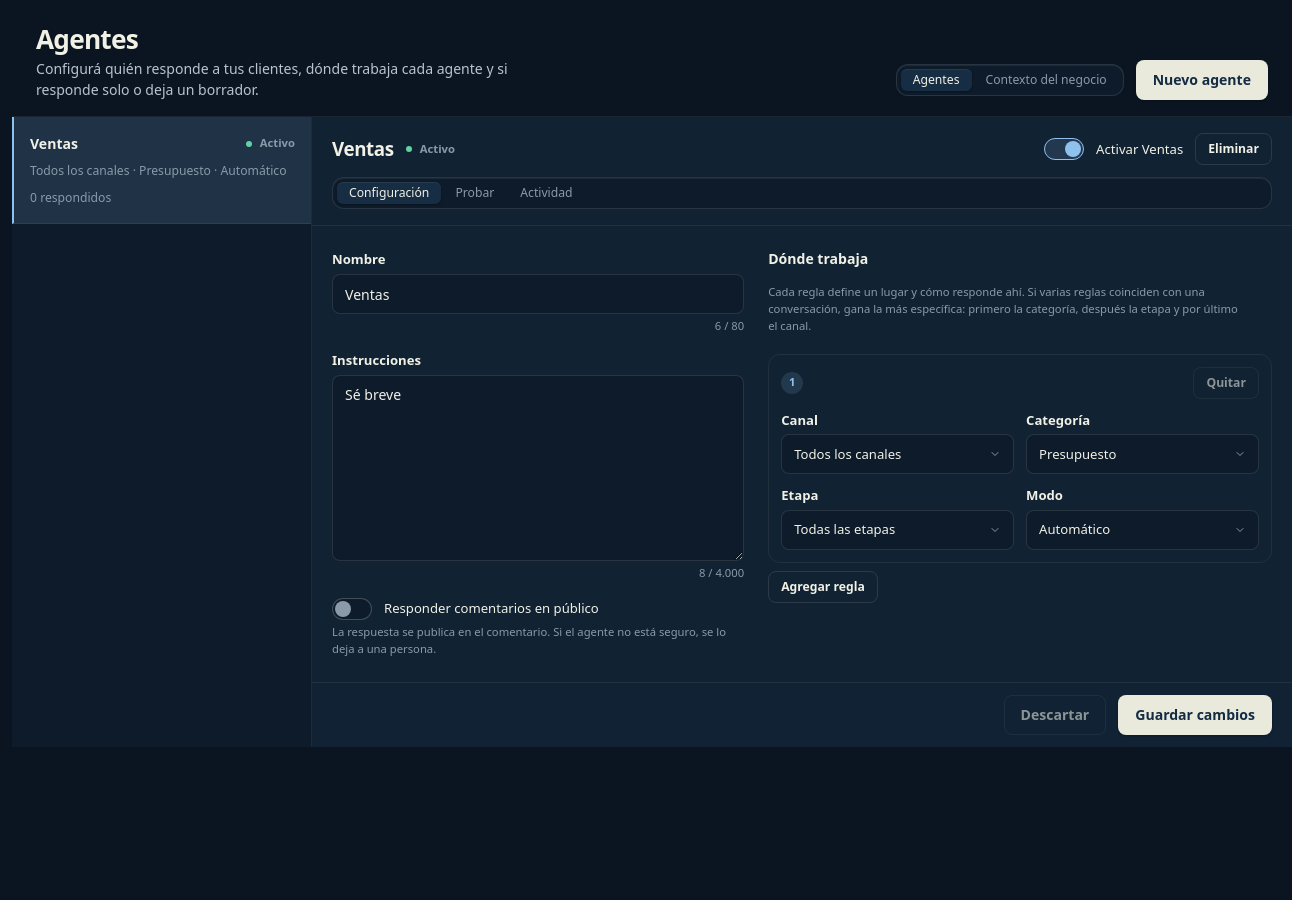
Test case: Agents › says when the agent has no activity in the period
This screenshot has width=1292, height=900.
Click the button "Ventas" at (162, 171), box [12,117,311,224]
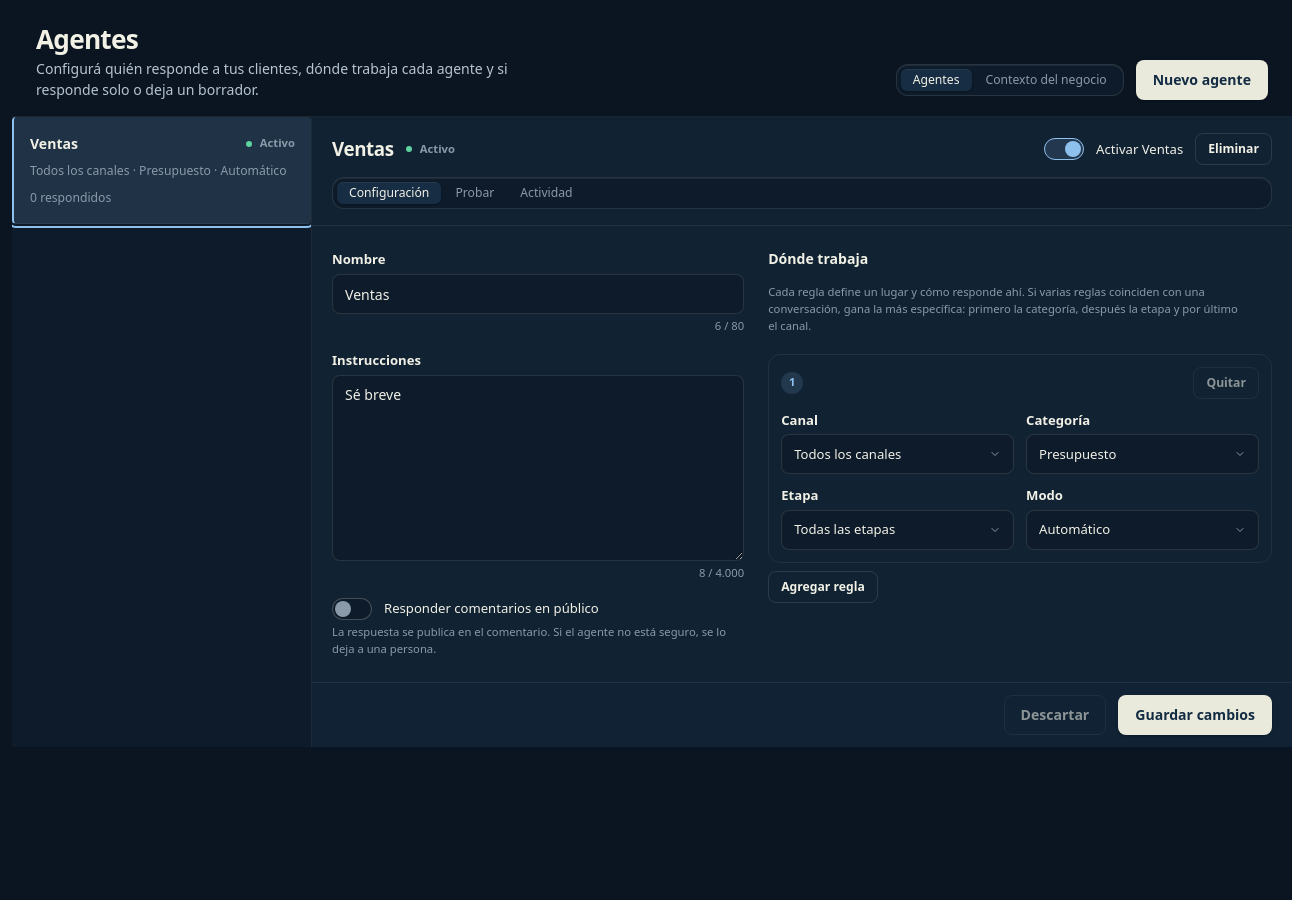
Click the button "Actividad" at (546, 193), box [508,182,585,204]
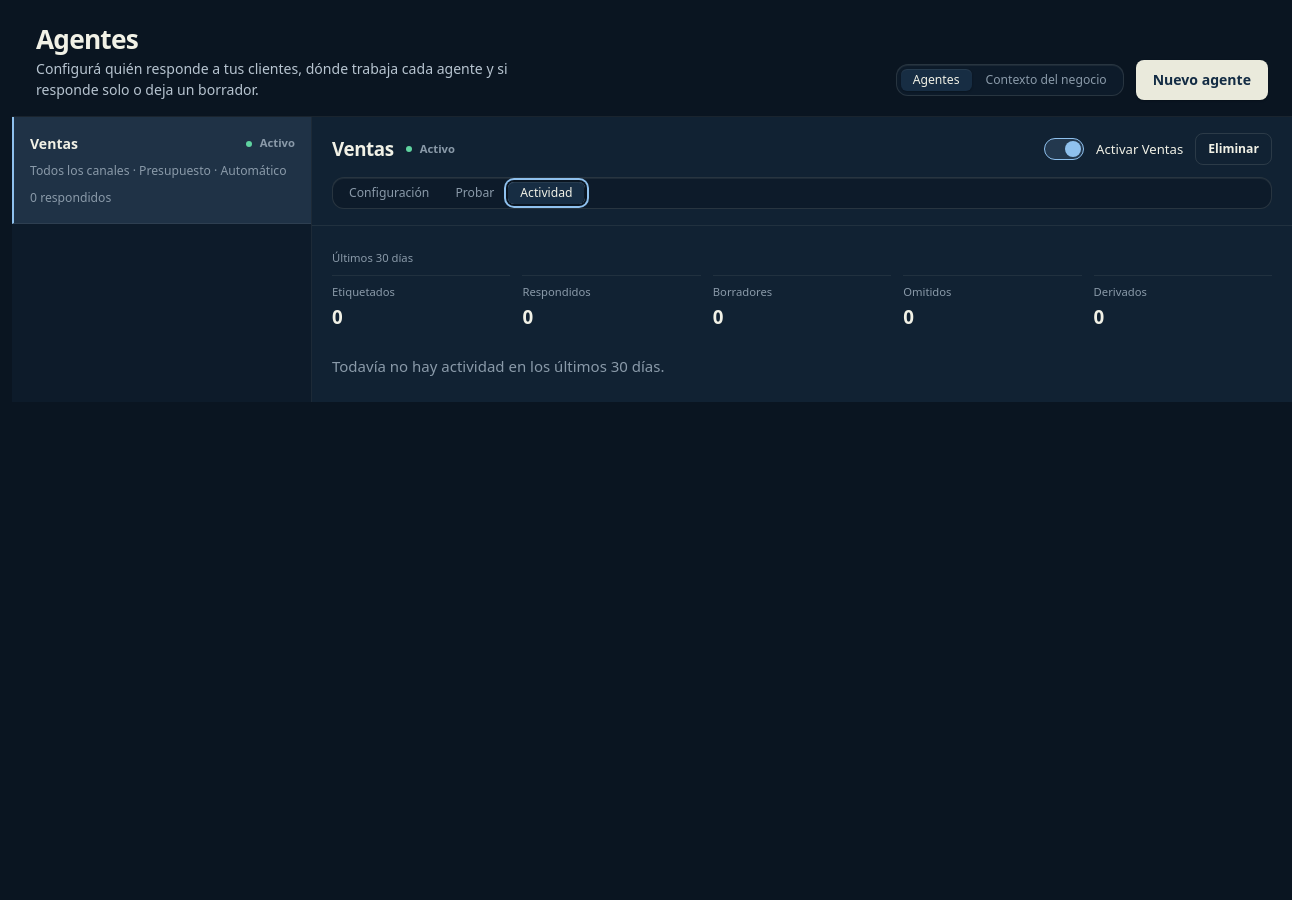
Now the text with class "agent-activity-empty" reads "Todavía no hay actividad en los últimos 30 días.", box [332,356,664,376]
